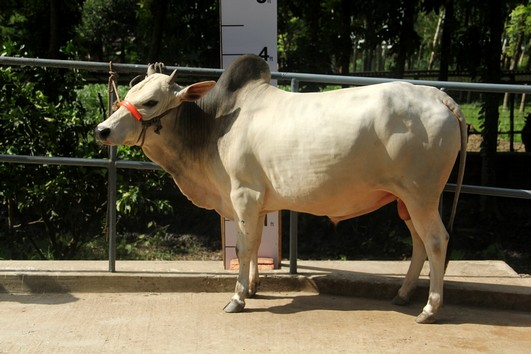cow: (82, 50, 469, 329)
